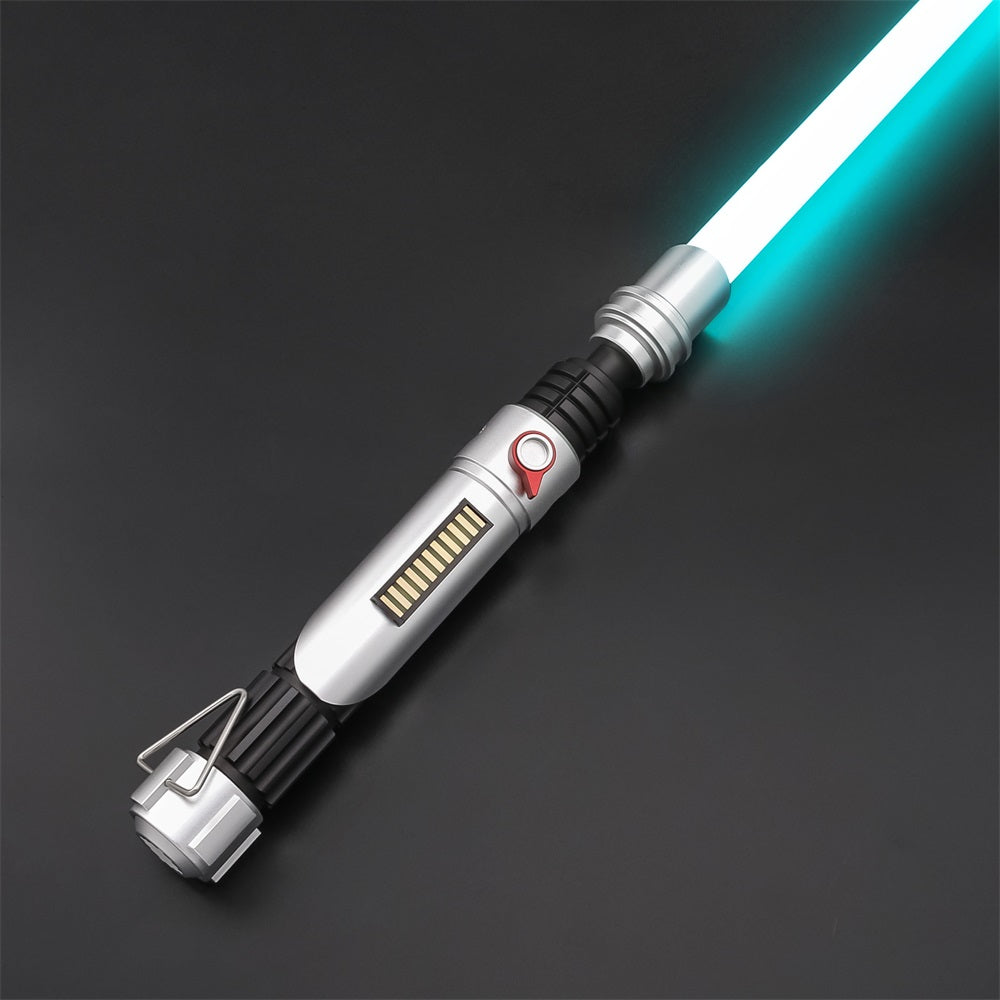lightsaber: (135, 0, 1000, 934)
